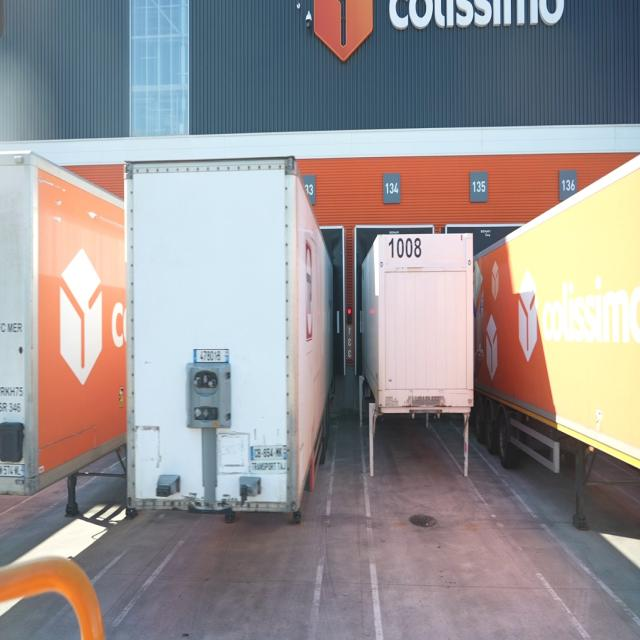Code: (384, 229, 423, 263)
